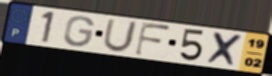1: (40, 10, 58, 44)
5: (179, 28, 206, 62)
F: (133, 21, 173, 58)
G: (62, 15, 97, 48)
U: (101, 18, 139, 54)
X: (205, 31, 247, 69)
